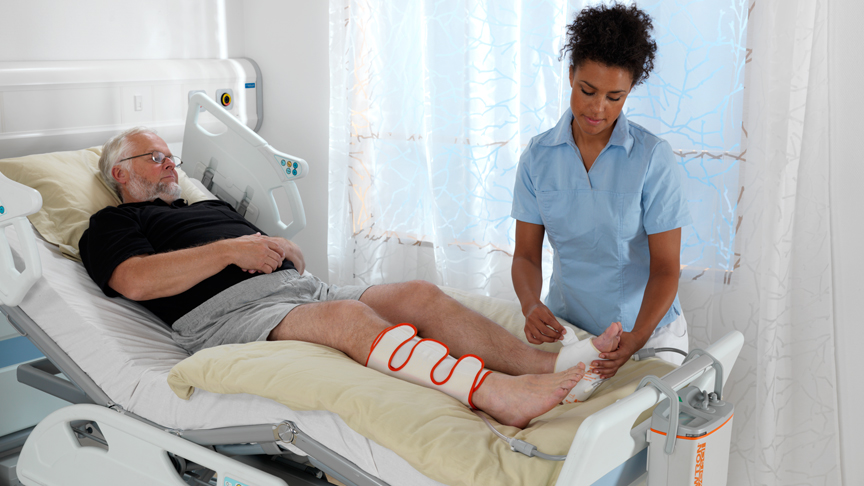bedrail: (13, 401, 292, 486), (178, 90, 312, 239), (1, 167, 46, 310)
foot_board: (548, 330, 747, 486)
hospital_bed: (5, 91, 752, 486)
patient: (77, 124, 627, 431)
sequential_compression: (632, 346, 737, 486)
staff: (510, 1, 689, 368)
